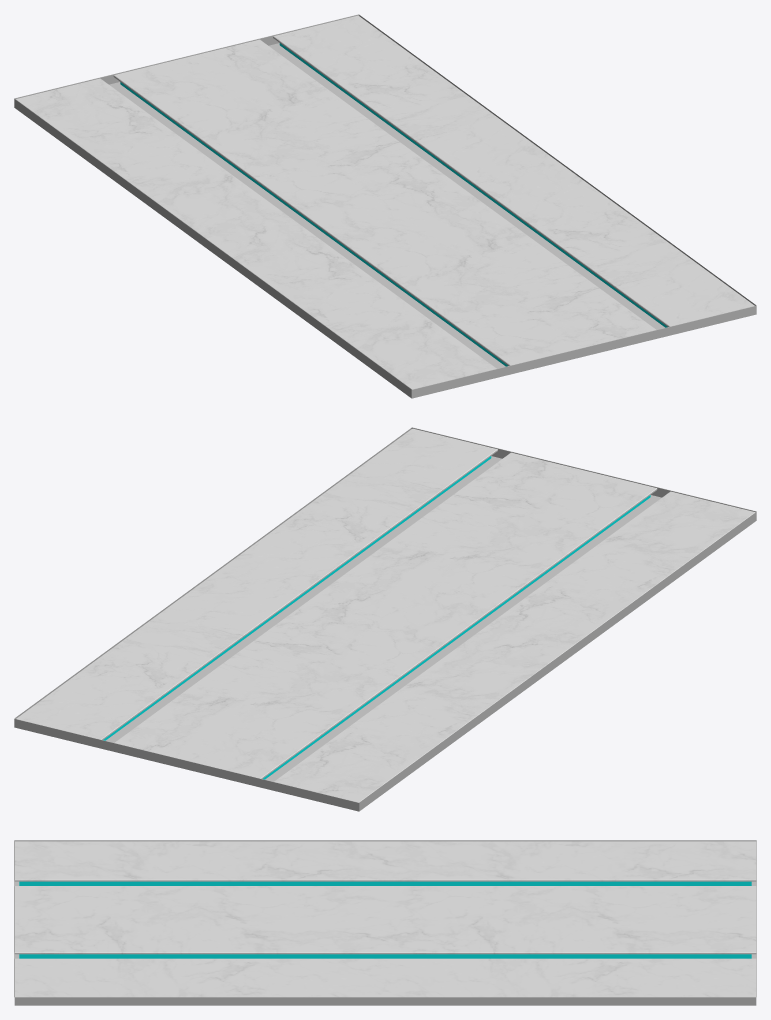
3 renders of one model, top to bottom at view 1: azimuth 30°, elevation 25°; view 2: azimuth 150°, elevation 25°; view 3: azimuth 270°, elevation 25°, orthographic. The views are drawn at different scales.
Visible parts, largest first — view 1: M_C_003_a_8x16; view 2: M_C_003_a_8x16; view 3: M_C_003_a_8x16.
Boxes of the visible parts, bbox=[...] form: M_C_003_a_8x16: bbox=[14, 14, 756, 398]; M_C_003_a_8x16: bbox=[14, 427, 756, 811]; M_C_003_a_8x16: bbox=[14, 840, 756, 1005].
Size of the model in its own units: 8 by 0.2 by 16.
